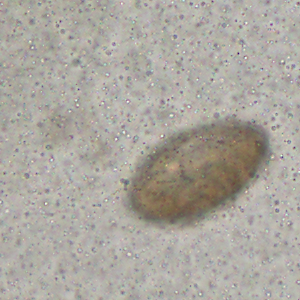Fasciola_hepatica_egg: (127, 119, 269, 221)
